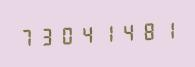eight: (137, 17, 156, 43)
four: (77, 21, 96, 47), (117, 18, 136, 44)
one: (157, 16, 176, 42), (97, 20, 116, 45)
seven: (17, 24, 36, 50)
three: (37, 23, 56, 49)
zero: (57, 22, 76, 48)
